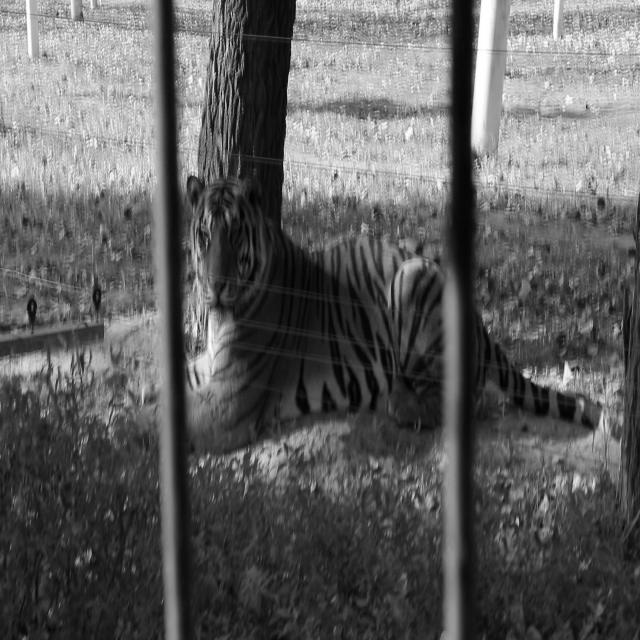Tiger: (129, 169, 604, 454)
